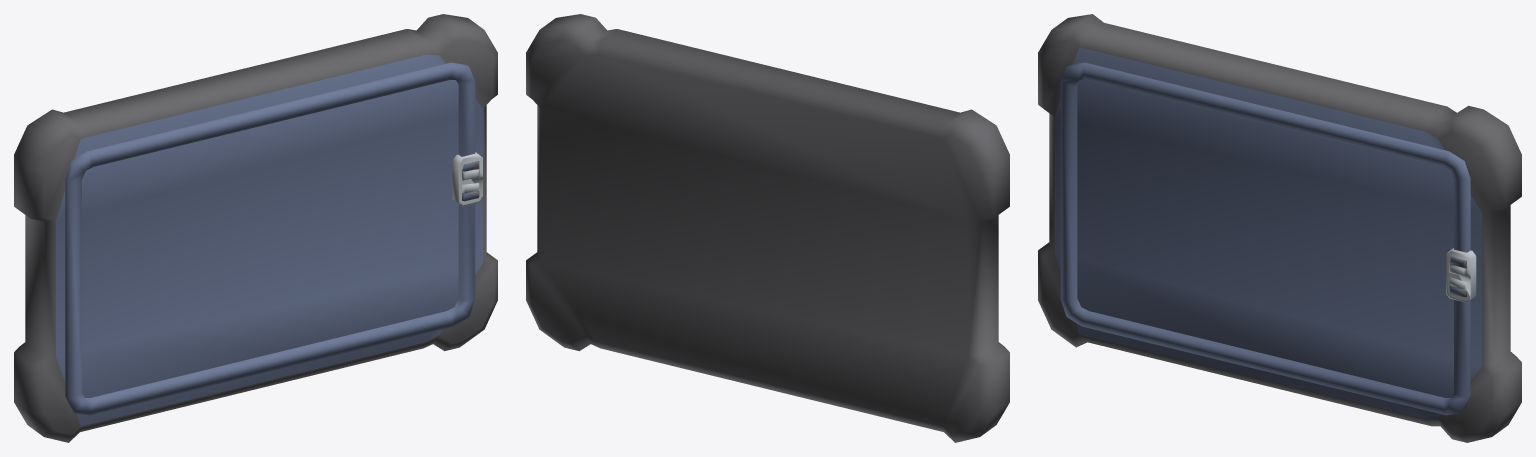
Rendered from tablet.glb.
The picture shows the model from 3 angles, left to right: view 1: azimuth 30°, elevation 25°; view 2: azimuth 150°, elevation 25°; view 3: azimuth 330°, elevation 25°; orthographic projection.
Parts seen in each view (by area): view 1: tablet; view 2: tablet; view 3: tablet.
Boxes of the visible parts, x1,y1,x2,y2 form: tablet: (14, 14, 497, 442); tablet: (526, 14, 1009, 442); tablet: (1038, 14, 1521, 442).
Bounding box in the file's own units: 0.1196 × 0.0786 × 0.0142.
